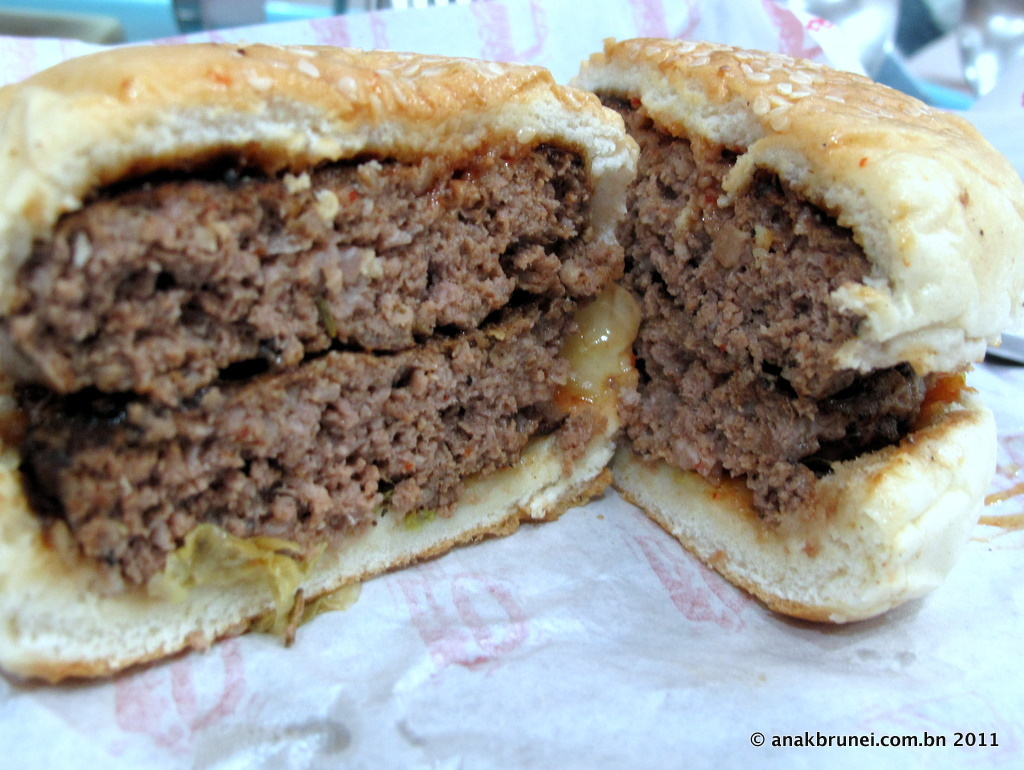Hamburger: (0, 37, 641, 684), (570, 21, 1013, 633)
